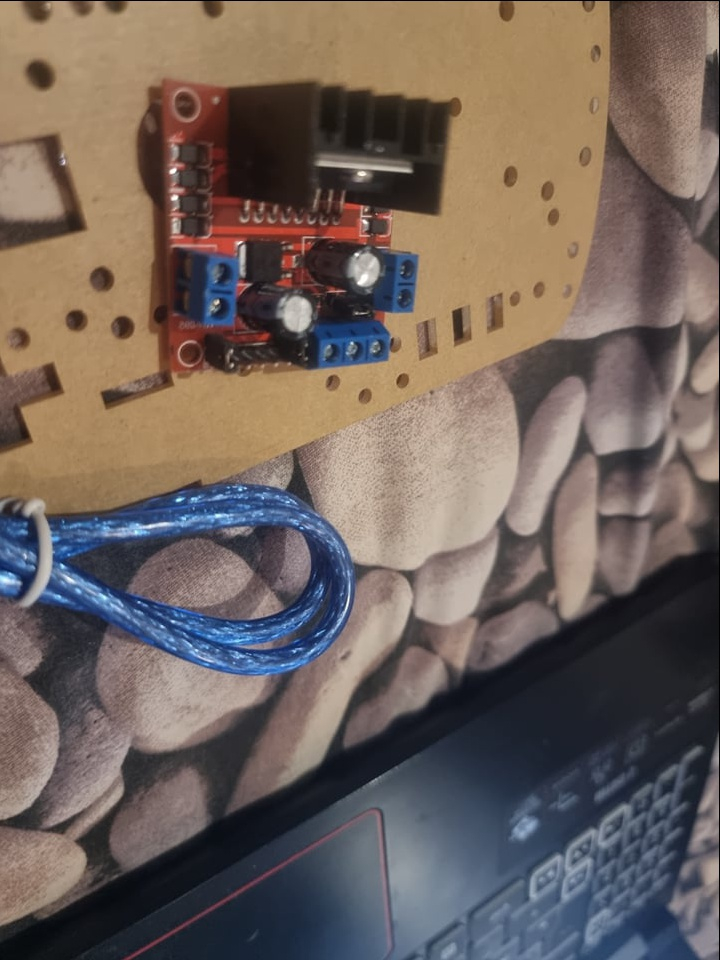MOTOR: (156, 75, 460, 374)
